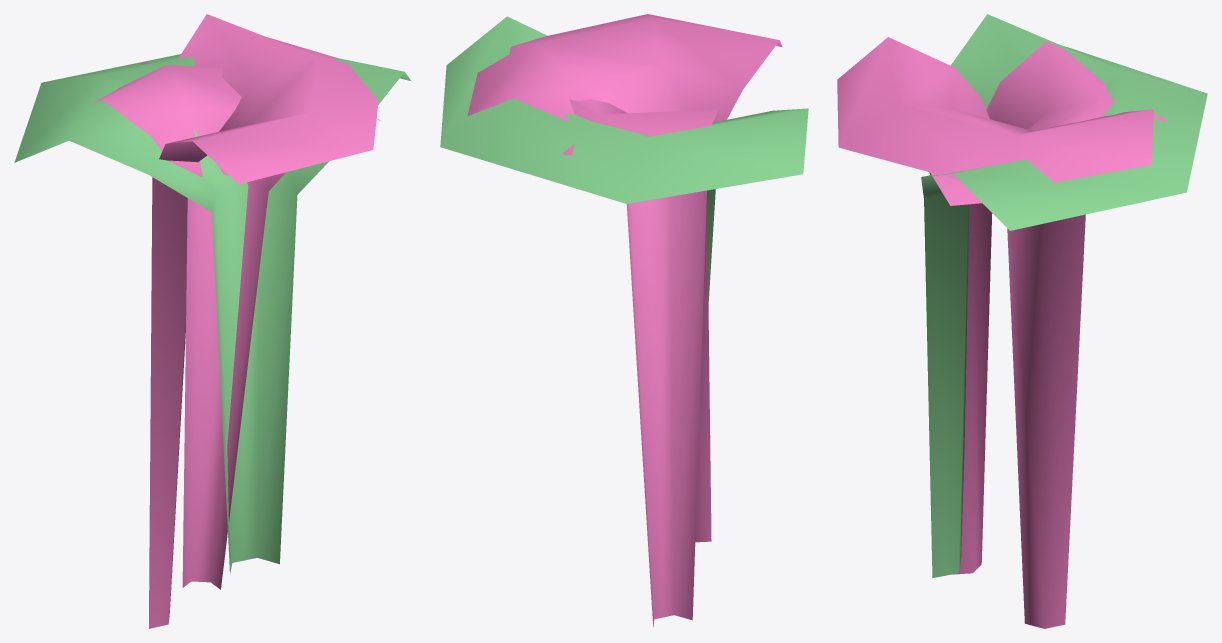
Rendered from flower_06_corolla_detach.glb.
The picture shows the model from 3 angles, left to right: view 1: azimuth 30°, elevation 25°; view 2: azimuth 150°, elevation 25°; view 3: azimuth 270°, elevation 25°; orthographic projection. The views are drawn at different scales.
Visible parts, largest first — view 1: Piece_Leaf, Piece_Petal_B, Piece_Petal_A; view 2: Piece_Petal_B, Piece_Leaf, Piece_Petal_A; view 3: Piece_Petal_B, Piece_Leaf, Piece_Petal_A.
Boxes of the visible parts, x1,y1,x2,y2 form: Piece_Leaf: (14,54,411,573); Piece_Petal_B: (149,14,378,628); Piece_Petal_A: (93,62,380,589); Piece_Petal_B: (467,14,782,626); Piece_Leaf: (440,16,808,303); Piece_Petal_A: (562,99,718,542); Piece_Petal_B: (837,37,1153,628); Piece_Leaf: (921,14,1207,578); Piece_Petal_A: (929,41,1165,574).
Bounding box in the file's own units: 0.5461 × 0.7465 × 0.4431.
